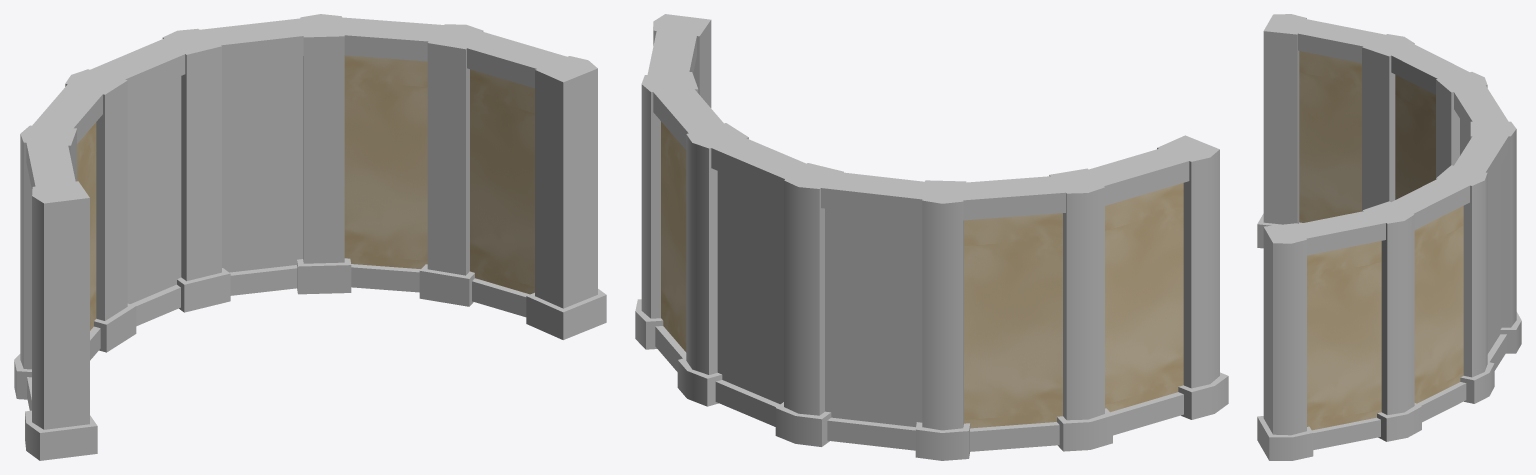
File: MOD_round_wall_window.fbx
3 renders of one model, left to right at view 1: azimuth 30°, elevation 25°; view 2: azimuth 150°, elevation 25°; view 3: azimuth 270°, elevation 25°, orthographic. The views are drawn at different scales.
Visible parts, largest first — view 1: cut_round_wall, round_wall; view 2: round_wall, cut_round_wall; view 3: cut_round_wall, round_wall.
Boxes of the visible parts, box(x1,y1,x2,y2) form: cut_round_wall: box(194, 14, 597, 308); round_wall: box(14, 28, 606, 460); round_wall: box(635, 135, 1228, 460); cut_round_wall: box(641, 14, 821, 404); cut_round_wall: box(1263, 129, 1508, 435); round_wall: box(1257, 14, 1521, 460).
Size of the model in its own units: 303 by 145 by 130.
